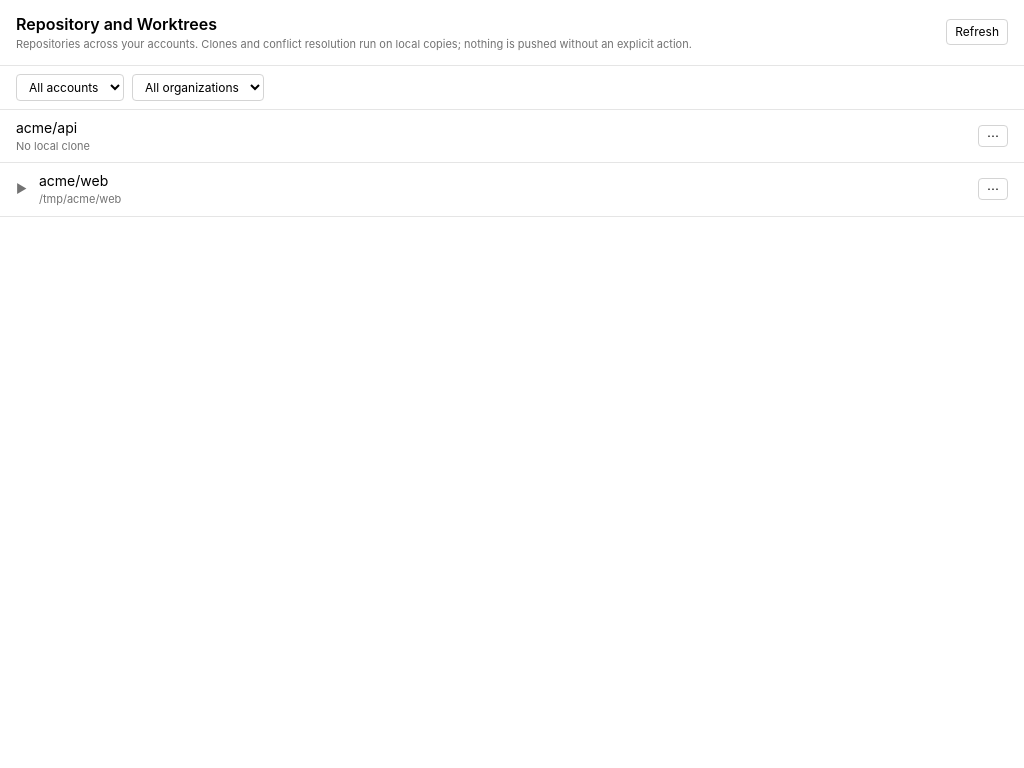
Test: Repos › cancels force delete when confirm dialog is dismissed
The width and height of the screenshot is (1024, 768).
Click the button named "Worktrees for acme/web": (22, 189) x1=16 y1=181 x2=27 y2=197
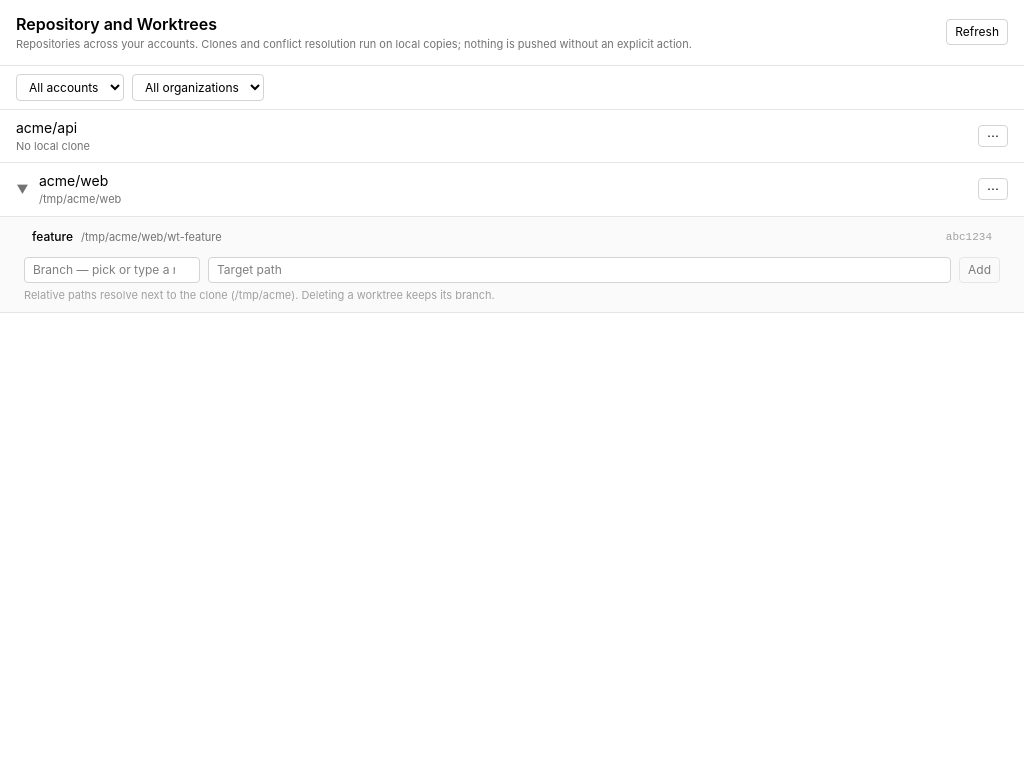
expect the text "feature" is shown: met, box x1=32 y1=229 x2=73 y2=245
Right-click the text "/tmp/acme/web/wt-feature": (151, 236) x1=81 y1=230 x2=222 y2=244
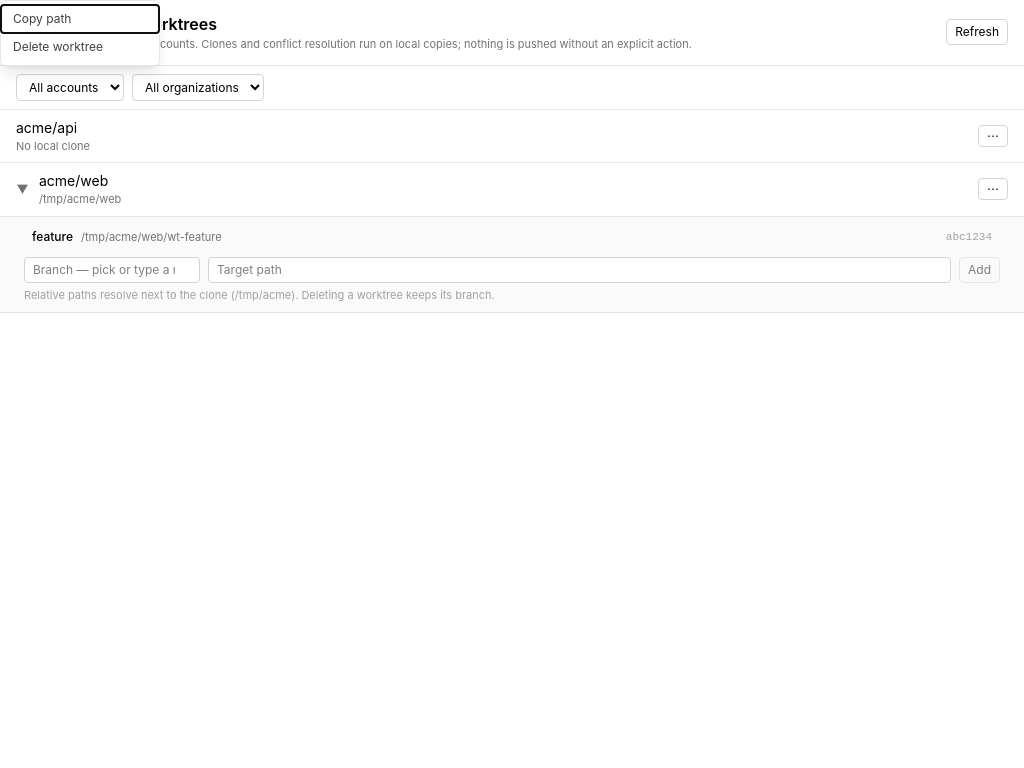
Click the menu item "Delete worktree": (80, 47) x1=1 y1=33 x2=159 y2=61
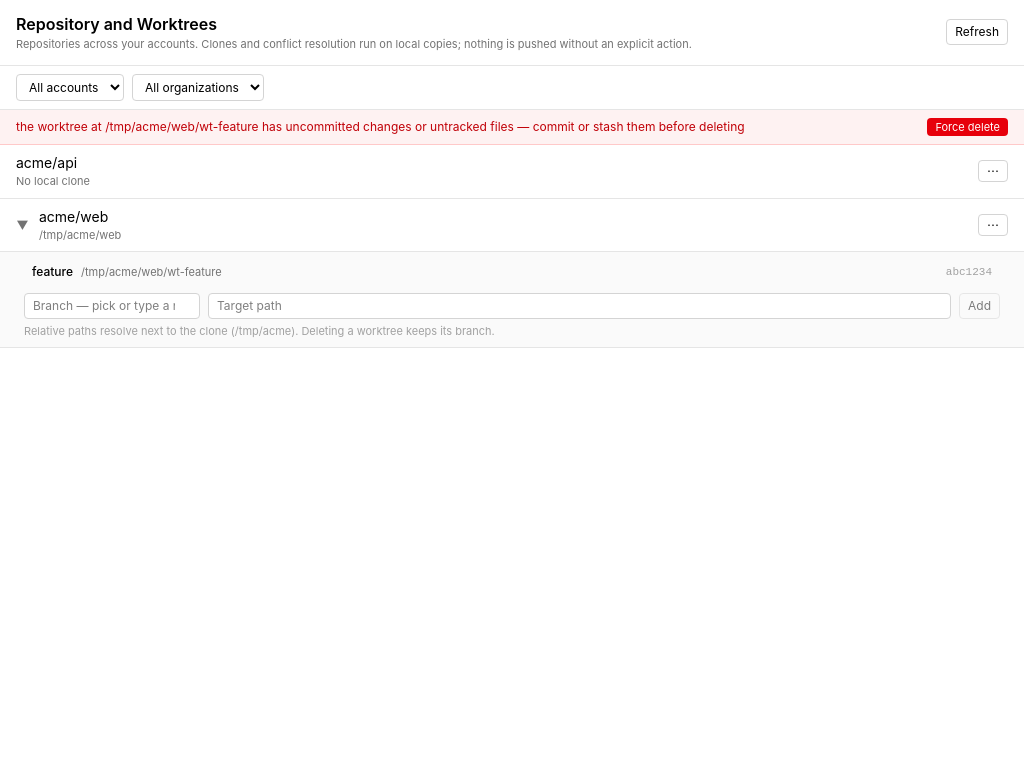
expect the button "Force delete" is shown: met
Click the button "Force delete": (968, 127) x1=928 y1=118 x2=1008 y2=136
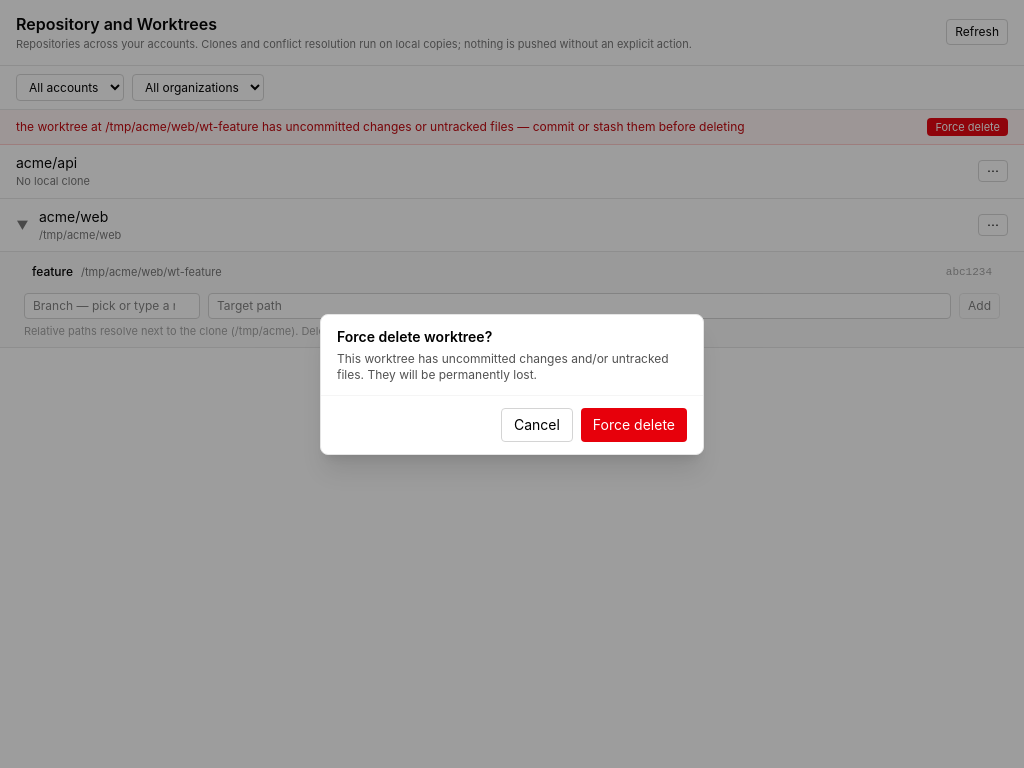
expect the dialog "Force delete worktree?" is shown: met
Click the button "Cancel": (537, 424) x1=501 y1=408 x2=573 y2=442
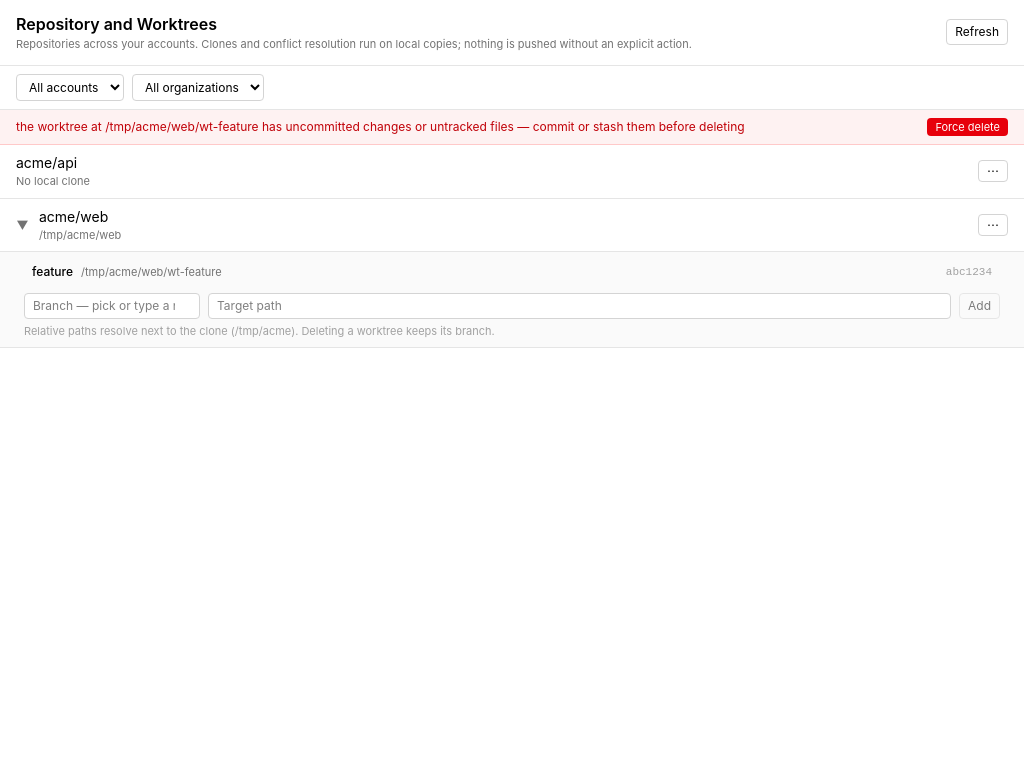
expect the heading "Force delete worktree?" is gone: met
